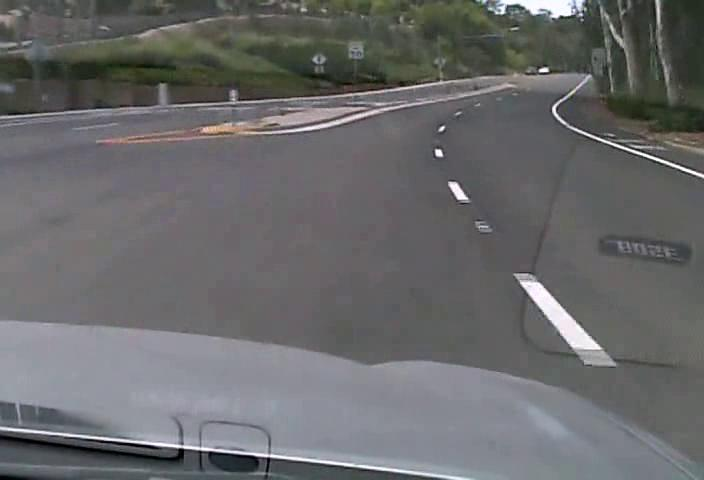speedLimitUrdbl: (345, 40, 364, 60)
